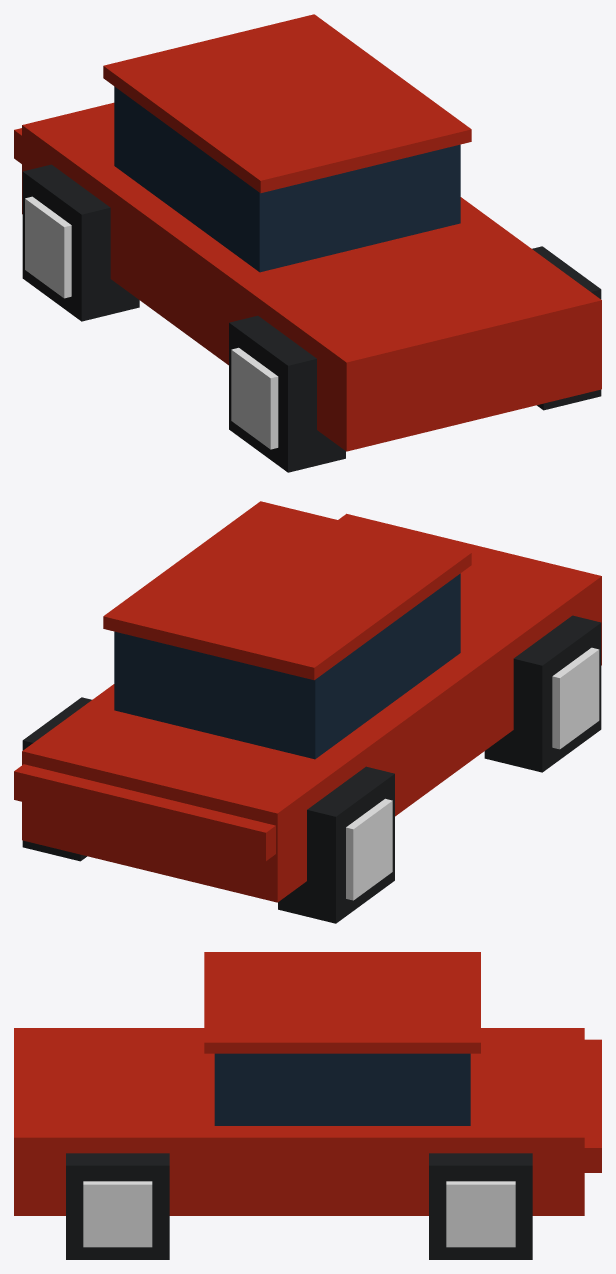
Rendered from car.gltf.
3 views of the same model, one above another, from view 1: azimuth 30°, elevation 25°; view 2: azimuth 150°, elevation 25°; view 3: azimuth 270°, elevation 25° (orthographic). The views are drawn at different scales.
Visible parts, largest first — view 1: Fictional TrackRS PBR test car; view 2: Fictional TrackRS PBR test car; view 3: Fictional TrackRS PBR test car.
Part boxes in pixels (x1,y1,x2,y2): Fictional TrackRS PBR test car: (14,14,601,472); Fictional TrackRS PBR test car: (14,501,601,923); Fictional TrackRS PBR test car: (14,952,601,1259).
Bounding box in the file's own units: 1.93 × 1.24 × 3.4.
4 materials, 4 textured.
